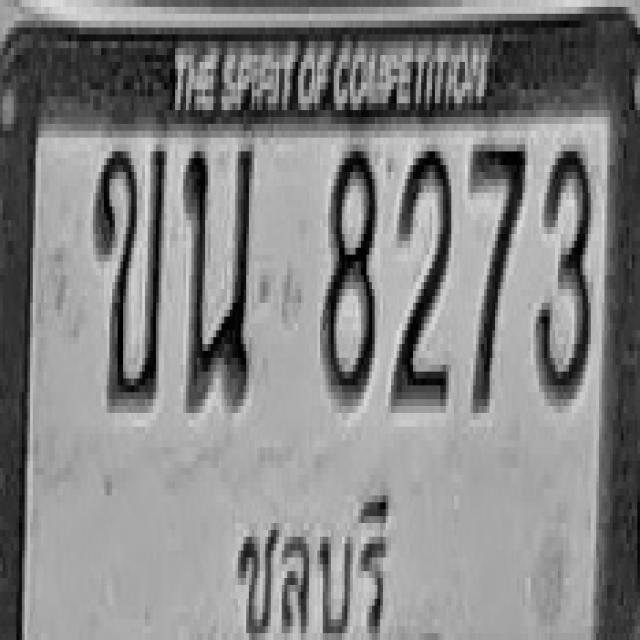11KhorKhai: (94, 145, 166, 406)
2: (391, 141, 451, 403)
3: (536, 145, 591, 399)
34NorNu: (185, 145, 253, 406)
7: (471, 141, 525, 410)
8: (321, 145, 376, 399)
Chonburi: (230, 468, 391, 640)
